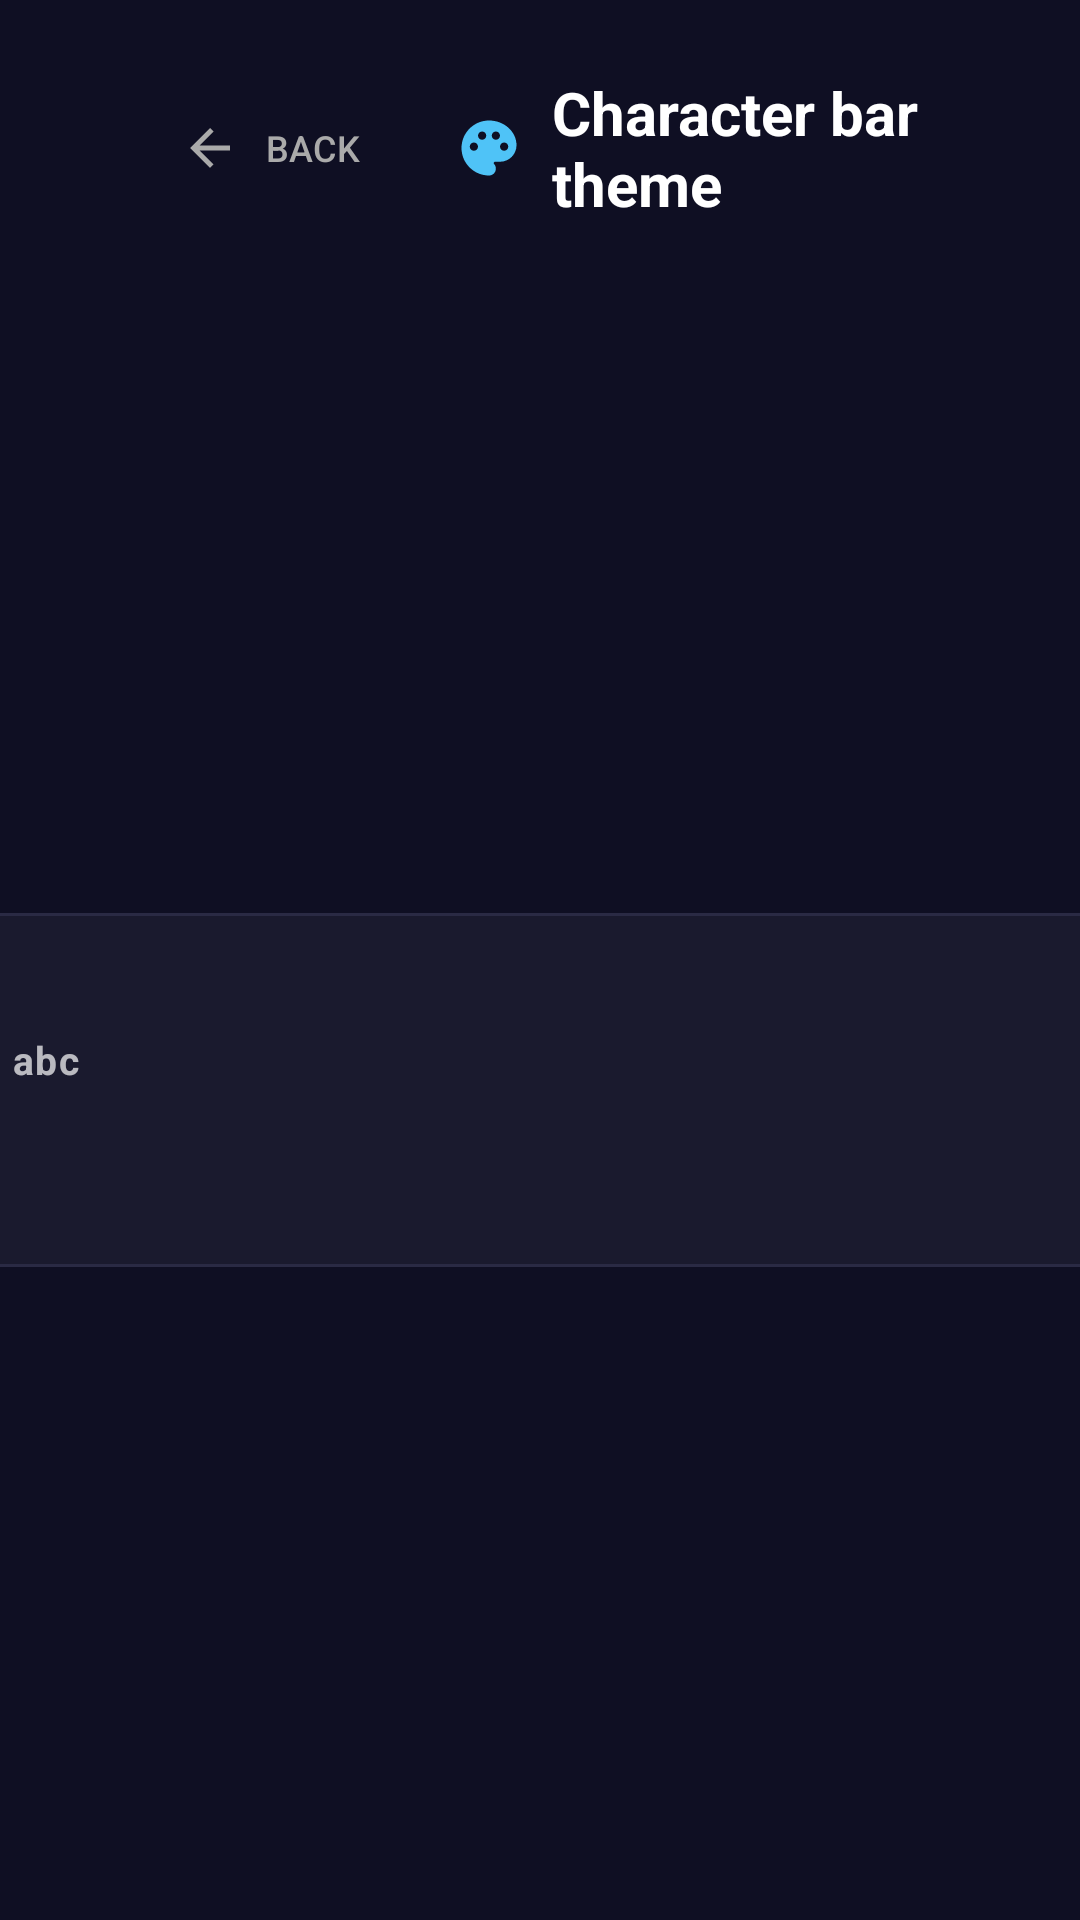

Where icons sit on this 1080*1920 app screen, as (x1, y1, x2, y2):
palette: (461, 120, 517, 176)
